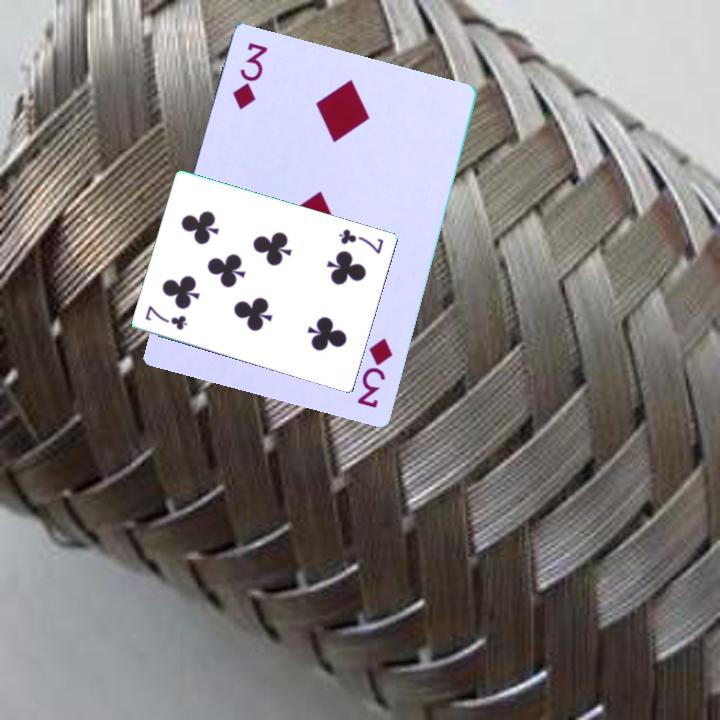3d: (354, 335, 396, 412), (229, 39, 271, 113)
7c: (336, 225, 387, 257), (142, 302, 191, 333)
